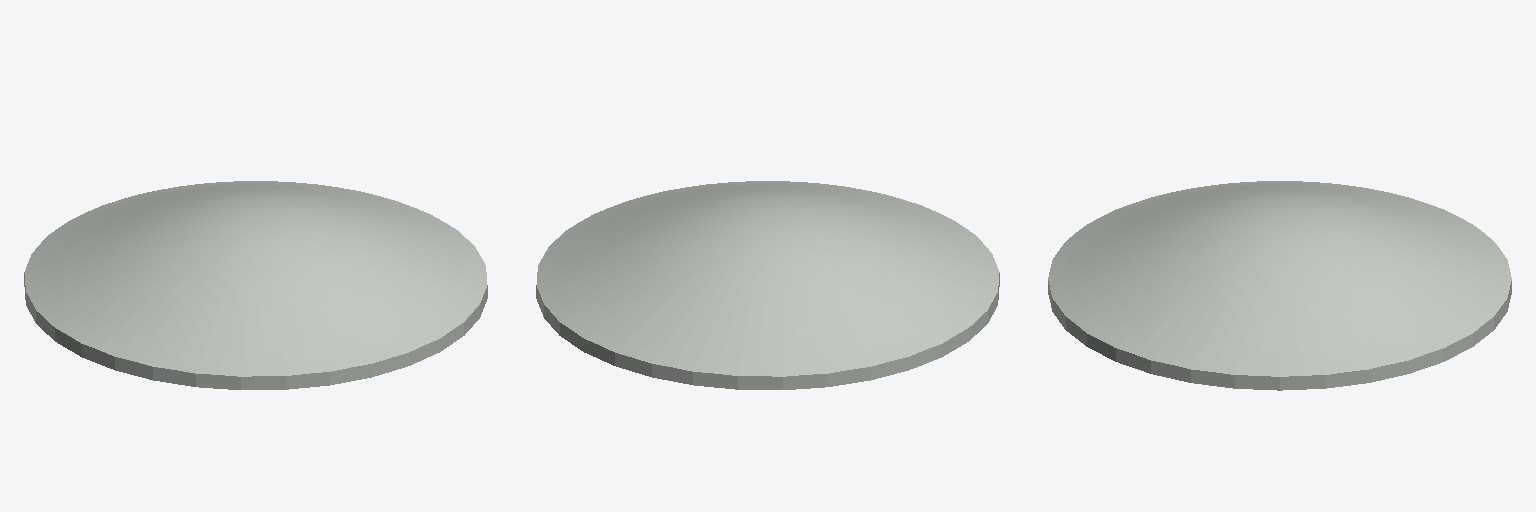
File: BUTTON.OBJ
3 views of the same model, side by side, from view 1: azimuth 30°, elevation 25°; view 2: azimuth 150°, elevation 25°; view 3: azimuth 270°, elevation 25° (orthographic).
Parts seen in each view (by area): view 1: Cylinder; view 2: Cylinder; view 3: Cylinder.
Boxes of the visible parts, x1,y1,x2,y2 form: Cylinder: [24, 181, 487, 389]; Cylinder: [536, 181, 999, 389]; Cylinder: [1048, 181, 1511, 390].
Bounding box in the file's own units: 2.08 × 0.3622 × 2.08.